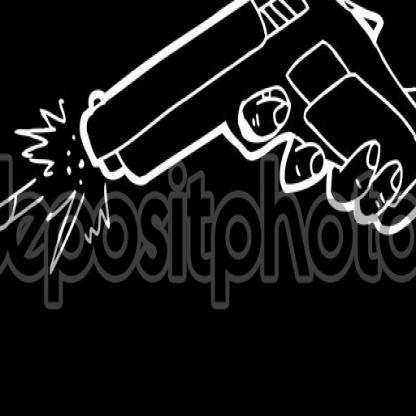gun: (78, 0, 415, 261)
